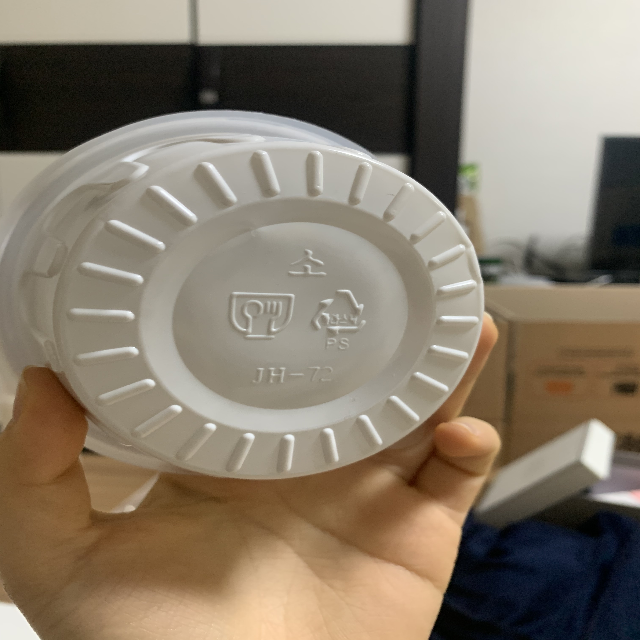ps: (306, 285, 372, 353)
